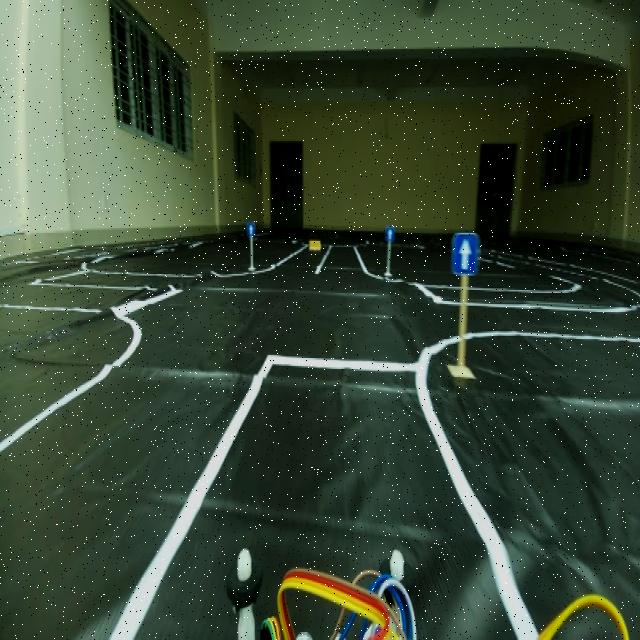onewayroad: (451, 230, 482, 280), (383, 222, 396, 250), (243, 221, 257, 237)
roadblock: (308, 234, 326, 253)
